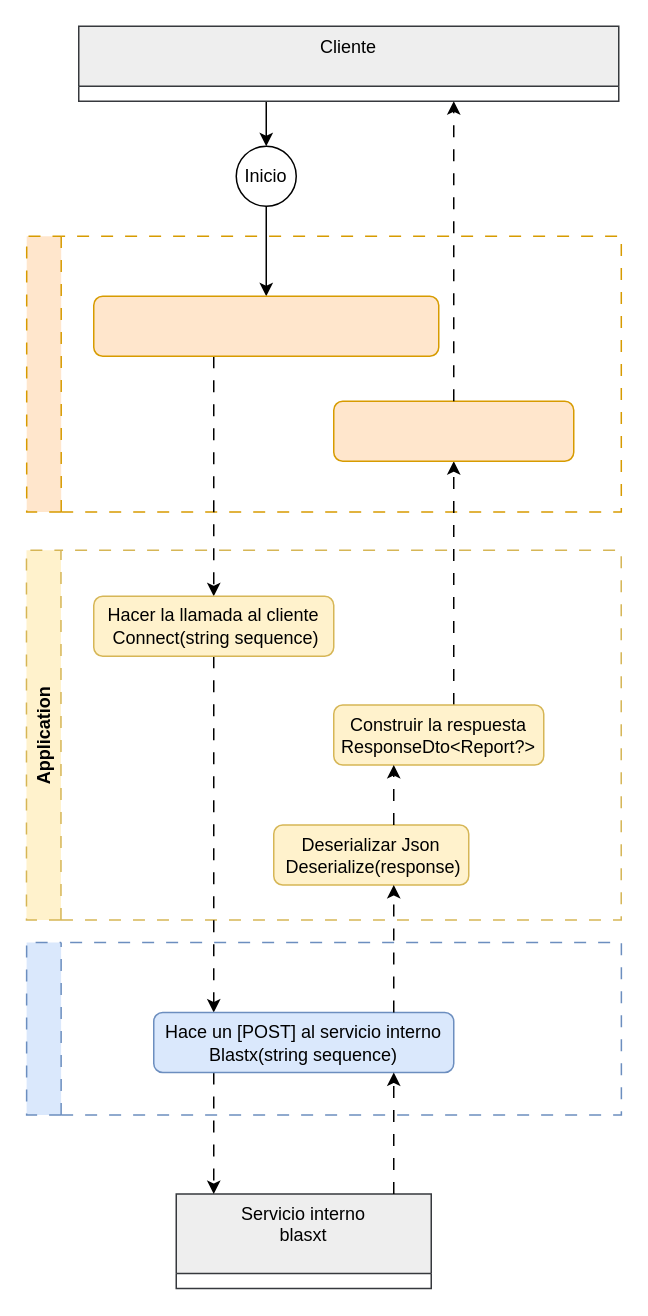
The diagram is 648 pixels wide and 1316 high, and some of its shapes have lost their labels. The shapes that lost their labels are listed below. From the top down, each one's box as (x1, y1, x2, y2) in pixels, then its label:
(92, 295, 439, 356): Procesar secuencia BLASTX BlastX([FromBody] BodyBlastxDto body)
(25, 235, 621, 512): Presentation
(332, 400, 574, 461): Devolver respuesta ResponseDto <Report?>
(25, 941, 621, 1115): Infrastructure
